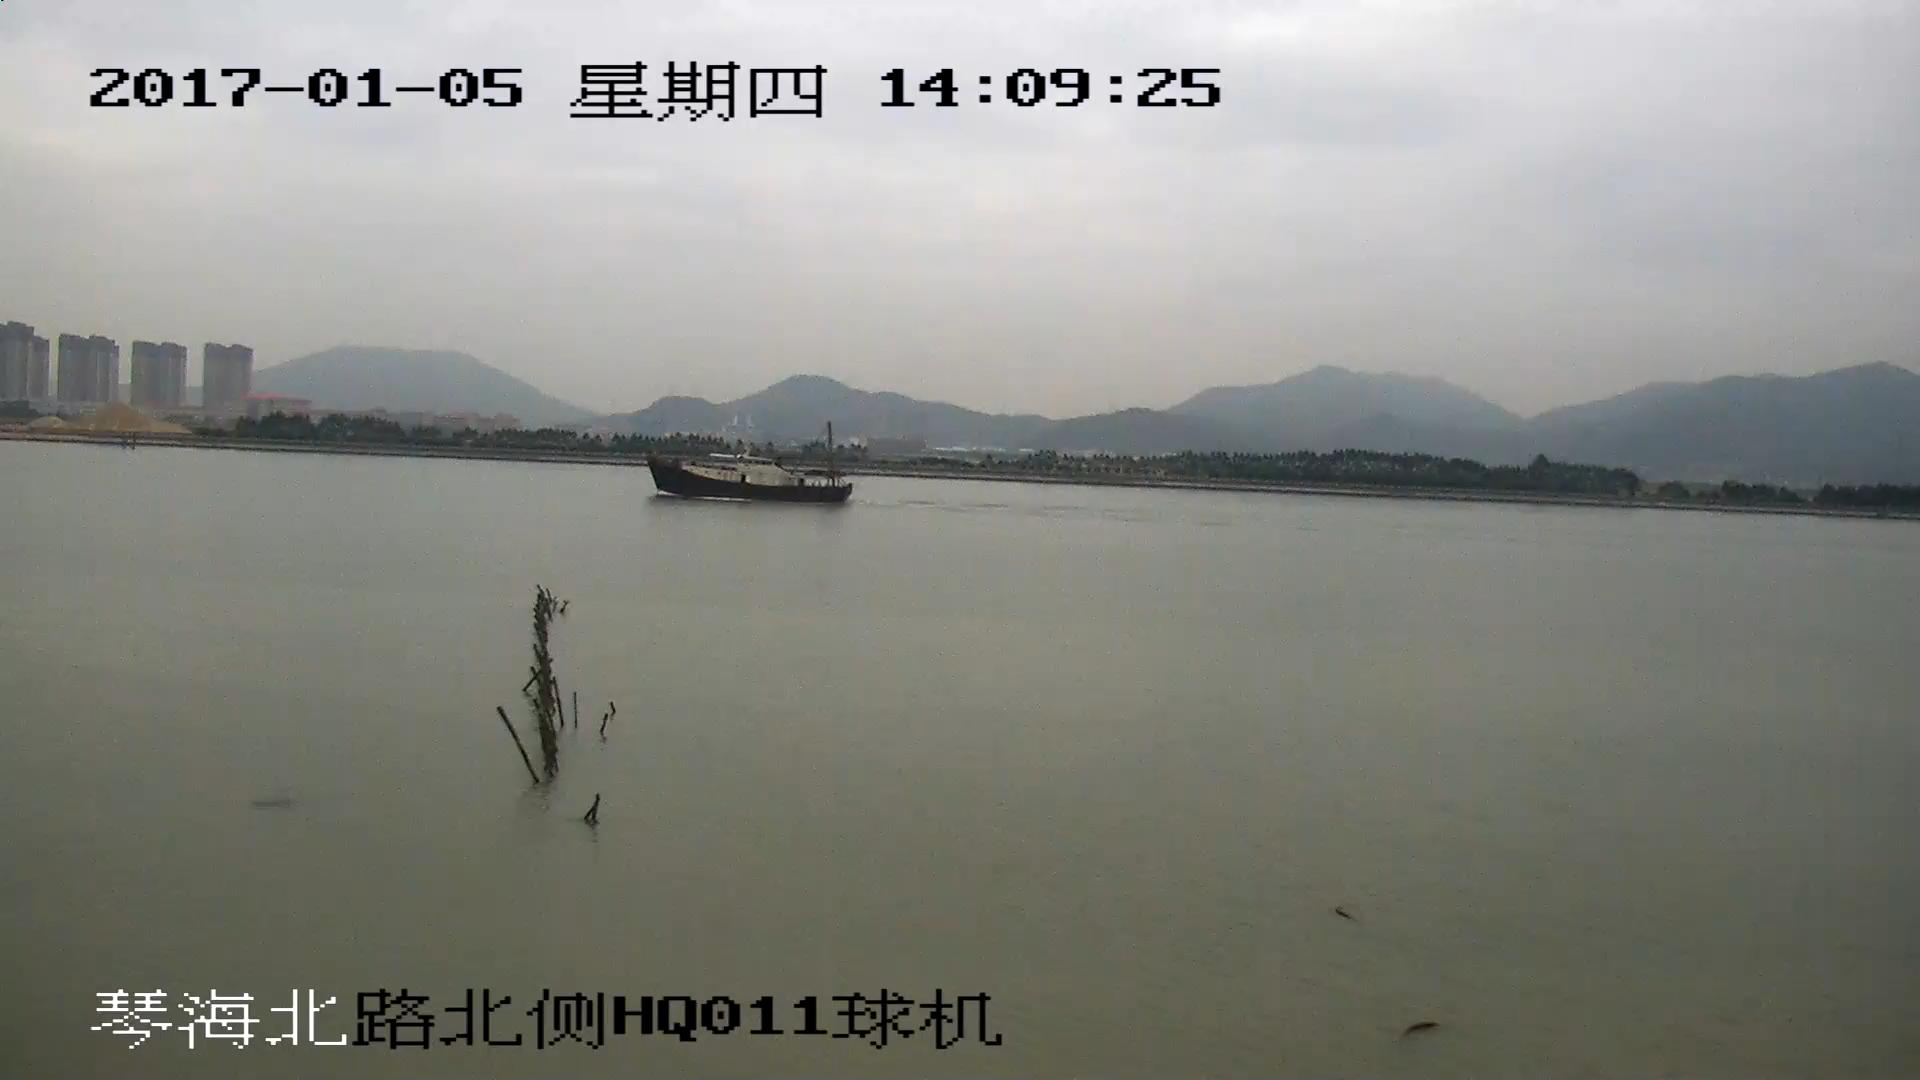fishing boat: (646, 411, 854, 505)
